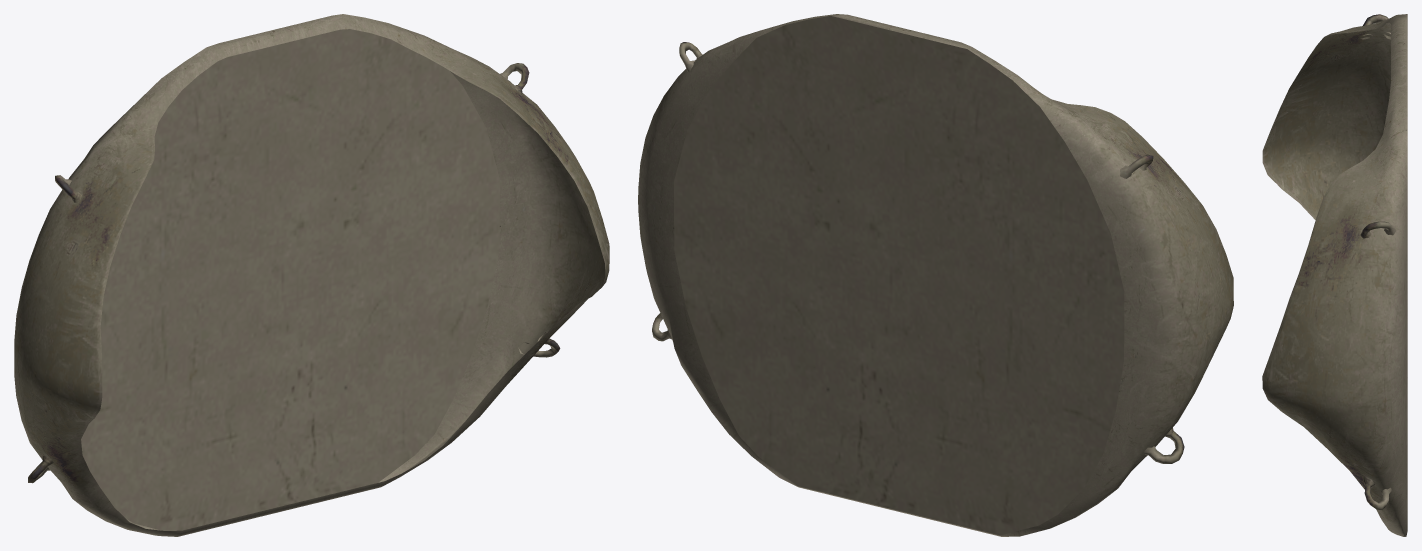
The model's file is Turret_01.glb.
The picture shows the model from 3 angles, left to right: view 1: azimuth 30°, elevation 25°; view 2: azimuth 150°, elevation 25°; view 3: azimuth 270°, elevation 25°; orthographic projection. The views are drawn at different scales.
Parts seen in each view (by area): view 1: set_0_group_0; view 2: set_0_group_0; view 3: set_0_group_0.
Part boxes in pixels (<box>): set_0_group_0: <box>14,14,609,536</box>; set_0_group_0: <box>638,14,1233,536</box>; set_0_group_0: <box>1262,14,1407,536</box>.
Bounding box in the file's own units: 2.99 × 2.41 × 0.7173.
1 material, 1 textured.
